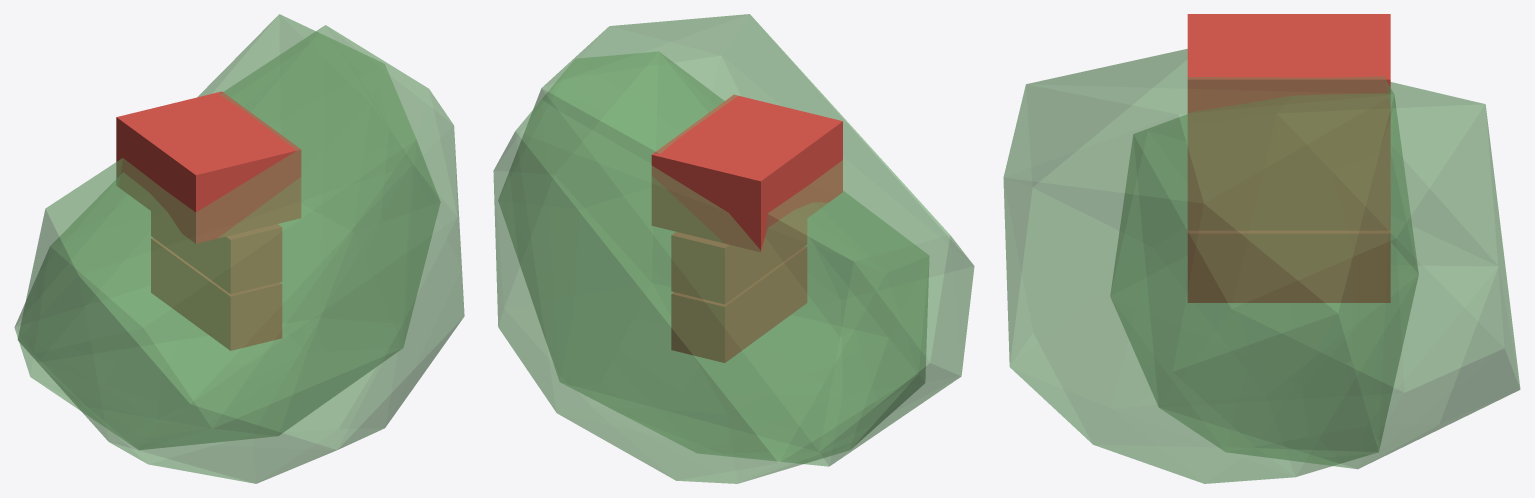
The model's file is hrp2_trunk_body_view.dae.
3 views of the same model, side by side, from view 1: azimuth 30°, elevation 25°; view 2: azimuth 150°, elevation 25°; view 3: azimuth 270°, elevation 25° (orthographic). The views are drawn at different scales.
Parts seen in each view (by area): view 1: Hrp2_Rleg_Rom, Hrp2_Lleg_Rom, Hrp2_Trunk_Body_002, Hrp2_Trunk_Body_0002, Hrp2_Trunk_Body_0012; view 2: Hrp2_Rleg_Rom, Hrp2_Lleg_Rom, Hrp2_Trunk_Body_002, Hrp2_Trunk_Body_0002, Hrp2_Trunk_Body_0012; view 3: Hrp2_Rleg_Rom, Hrp2_Lleg_Rom, Hrp2_Trunk_Body_002, Hrp2_Trunk_Body_0002, Hrp2_Trunk_Body_0012.
Part boxes in pixels (x1,y1,x2,y2): Hrp2_Rleg_Rom: (17, 25, 464, 483); Hrp2_Lleg_Rom: (14, 14, 440, 449); Hrp2_Trunk_Body_002: (116, 91, 301, 243); Hrp2_Trunk_Body_0002: (151, 238, 281, 350); Hrp2_Trunk_Body_0012: (151, 211, 281, 293); Hrp2_Rleg_Rom: (498, 14, 974, 466); Hrp2_Lleg_Rom: (493, 51, 929, 483); Hrp2_Trunk_Body_002: (651, 94, 842, 252); Hrp2_Trunk_Body_0002: (671, 246, 806, 362); Hrp2_Trunk_Body_0012: (671, 219, 806, 303); Hrp2_Rleg_Rom: (1003, 49, 1418, 483); Hrp2_Lleg_Rom: (1110, 82, 1520, 469); Hrp2_Trunk_Body_002: (1187, 14, 1390, 166); Hrp2_Trunk_Body_0002: (1188, 231, 1390, 302); Hrp2_Trunk_Body_0012: (1188, 167, 1390, 230).
Size of the model in its own units: 1.26 by 1.09 by 1.05.
